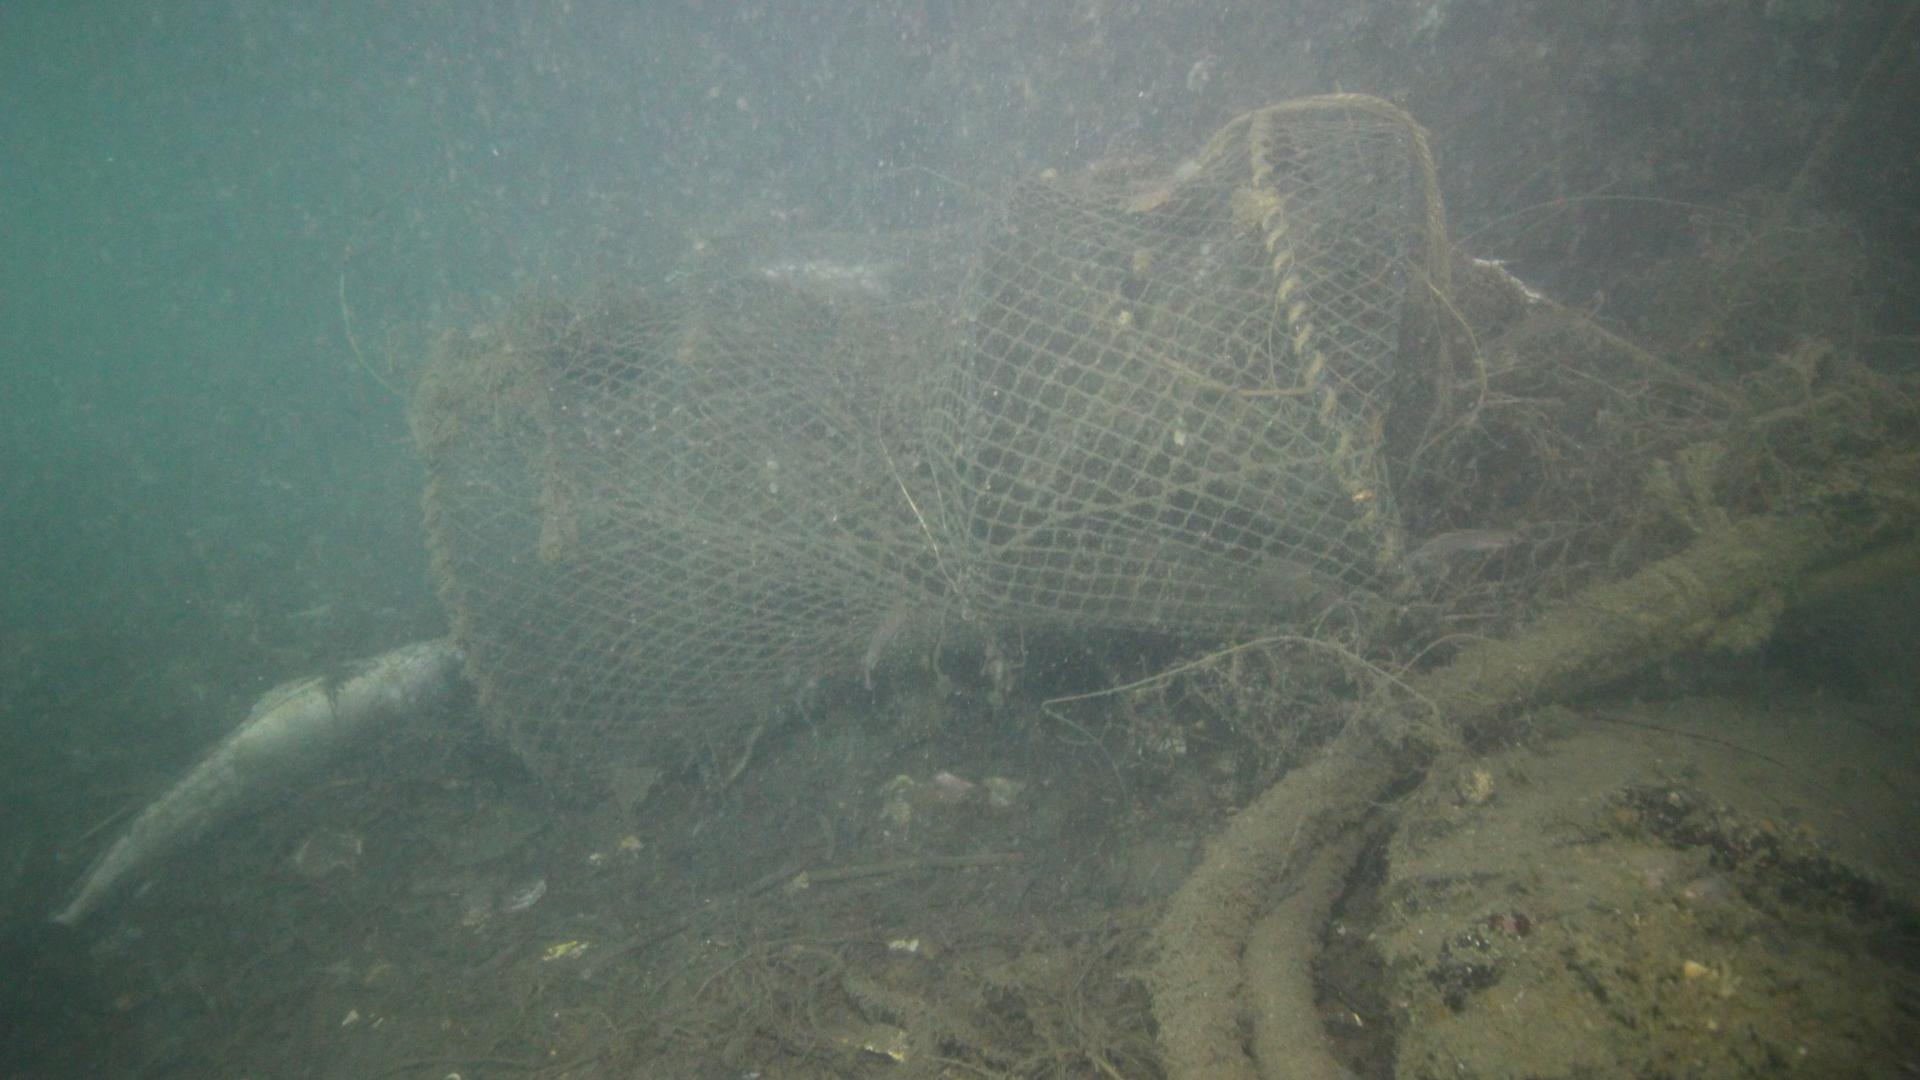spring fish trap: (411, 90, 1453, 804)
